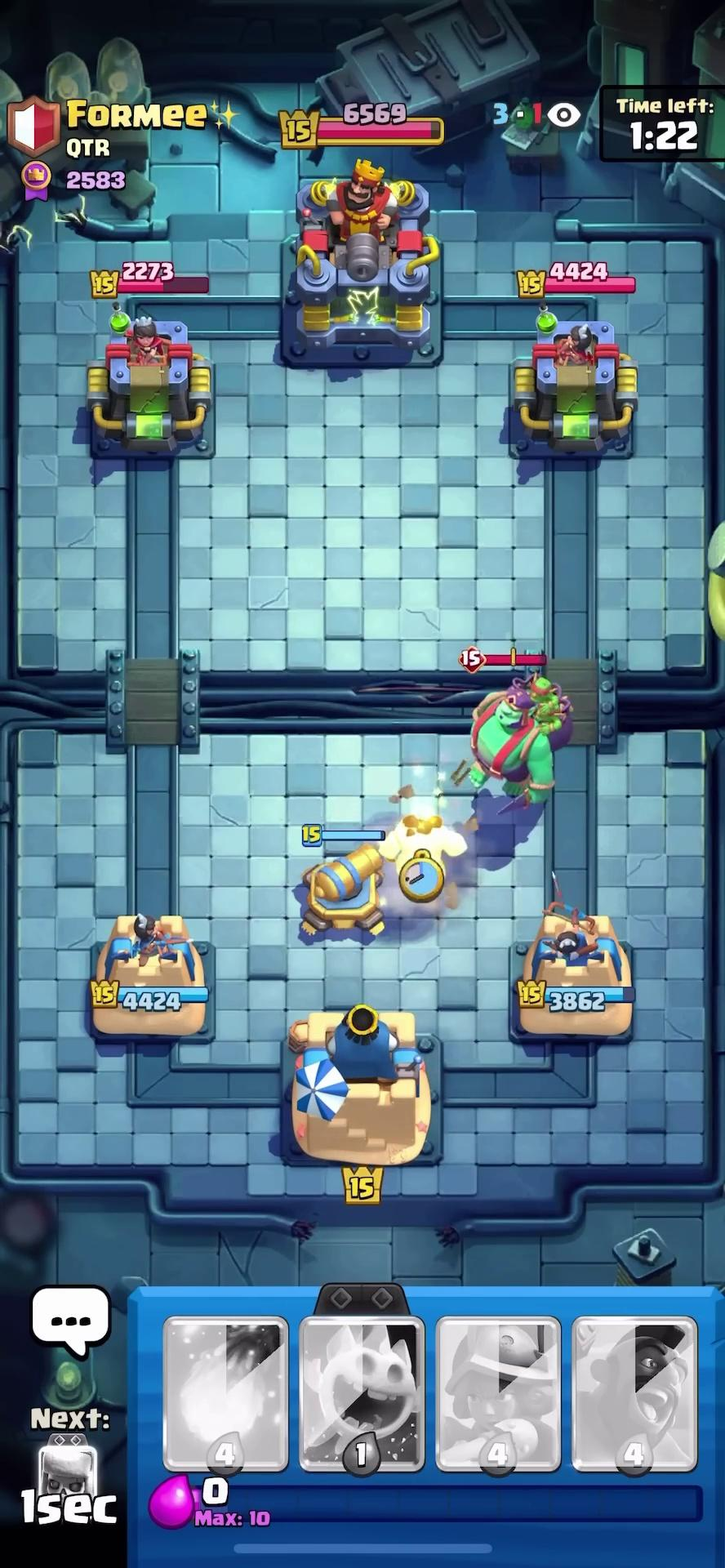cannon: (292, 825, 394, 945)
ice_golem: (386, 808, 455, 884)
